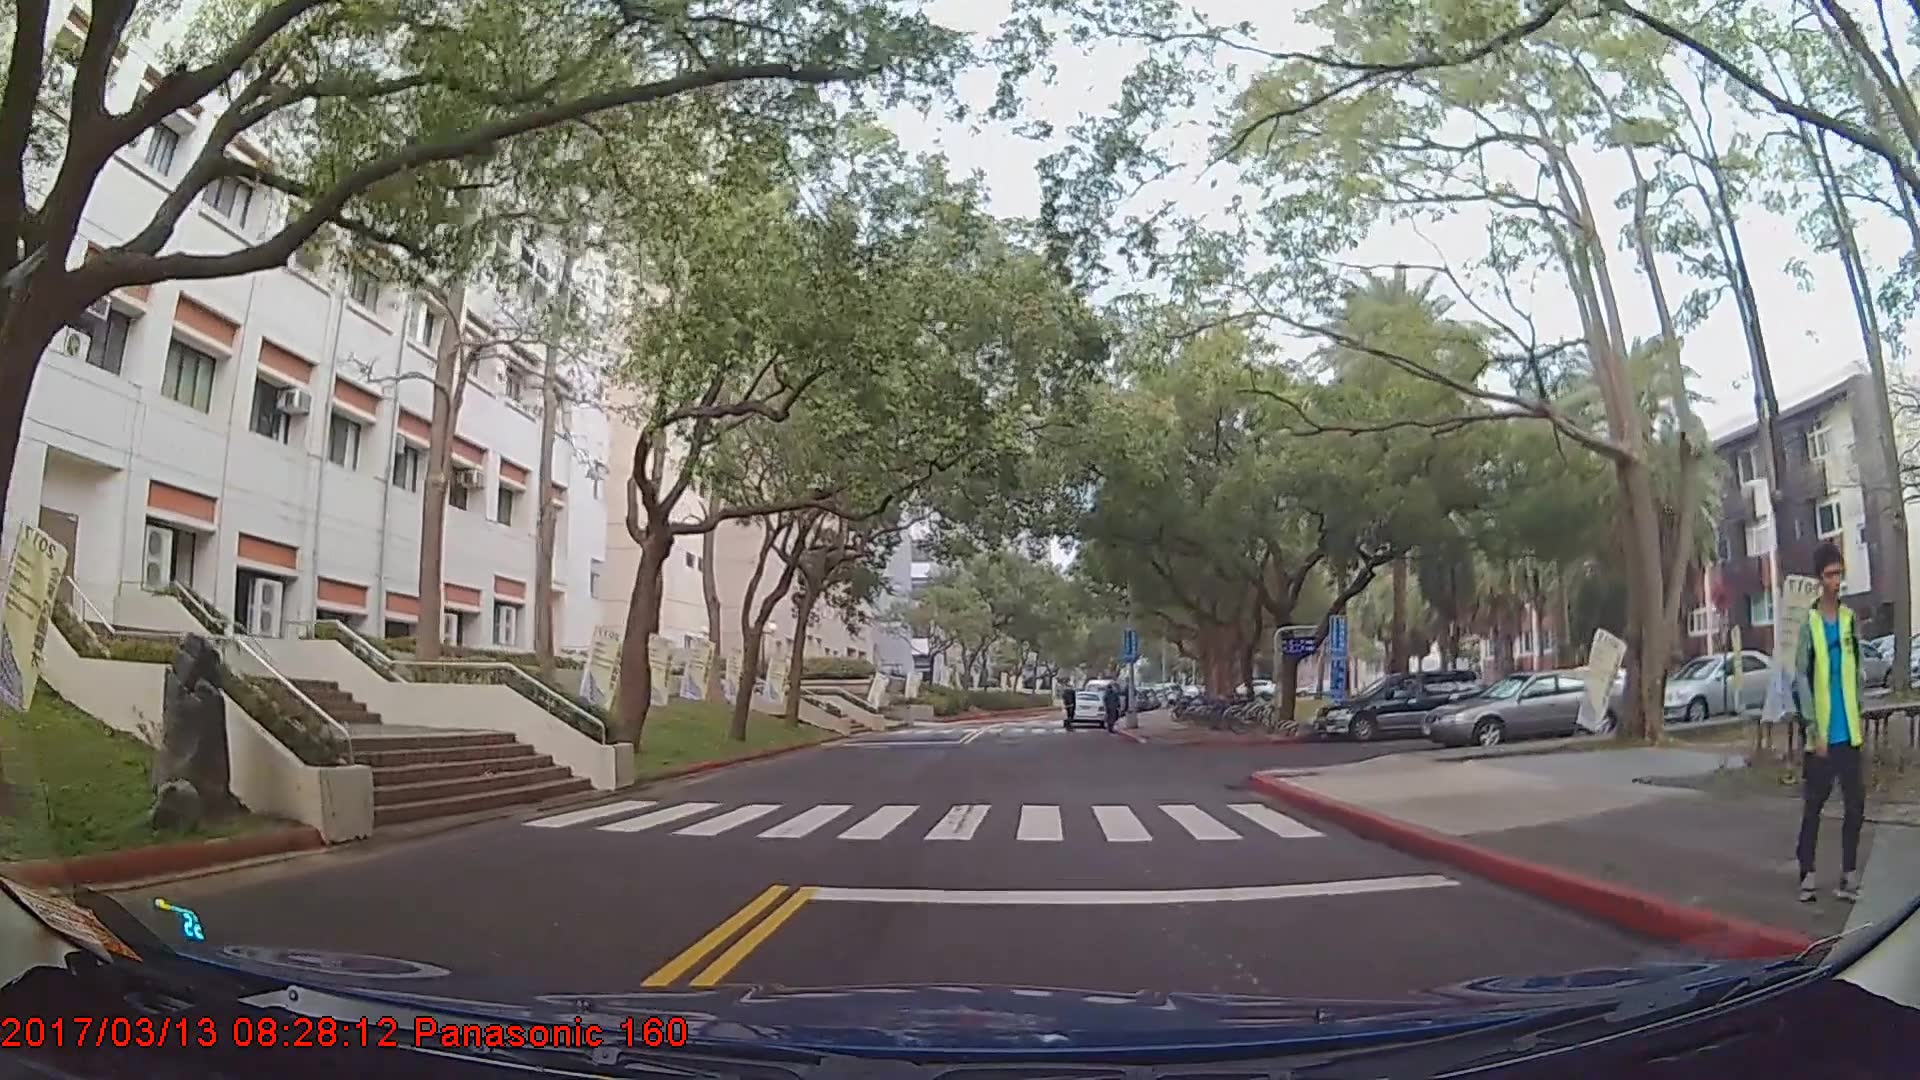pedestrian: (1788, 544, 1869, 910), (1061, 684, 1081, 736), (1104, 684, 1124, 735)
vehicle: (1422, 669, 1634, 748), (1313, 667, 1486, 739), (1649, 652, 1796, 725), (1061, 690, 1108, 729)
